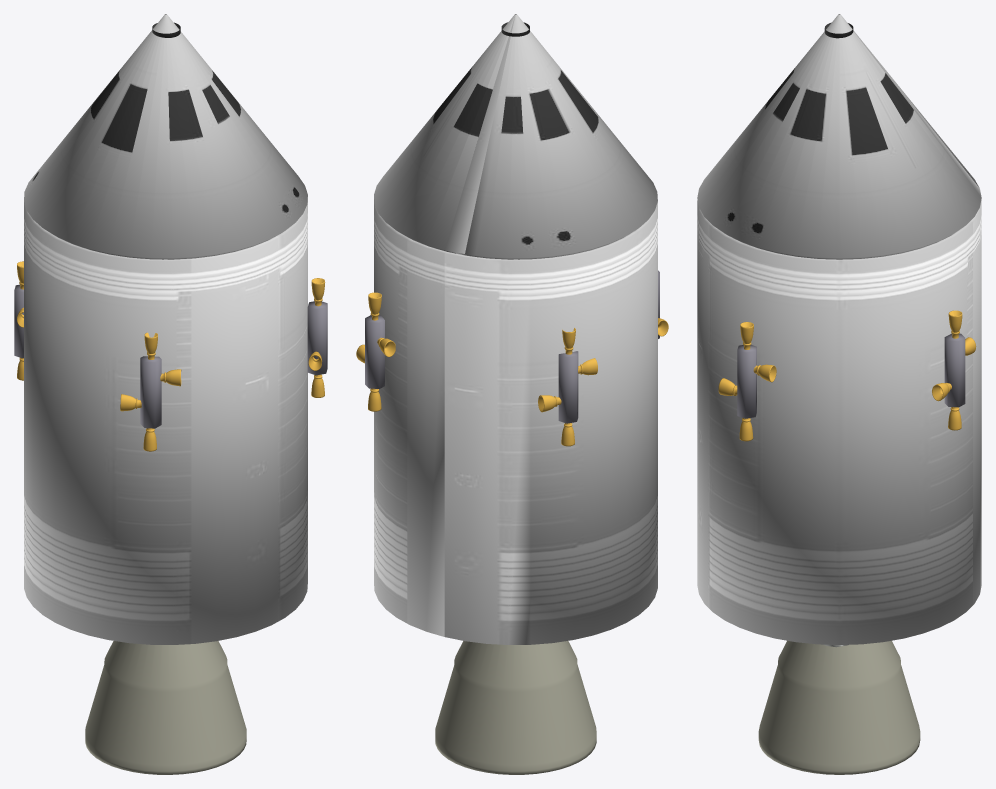
Rendered from apollo-soyuz-csm.glb.
3 renders of one model, left to right at view 1: azimuth 30°, elevation 25°; view 2: azimuth 150°, elevation 25°; view 3: azimuth 270°, elevation 25°, orthographic.
Parts seen in each view (by area): view 1: csm; view 2: csm; view 3: csm.
Boxes of the visible parts, bbox=[...] form: csm: bbox=[14, 14, 327, 774]; csm: bbox=[356, 14, 668, 774]; csm: bbox=[697, 14, 981, 774].
Bounding box in the file's own units: 3.92 × 11 × 3.9.
1 material, 1 textured.
